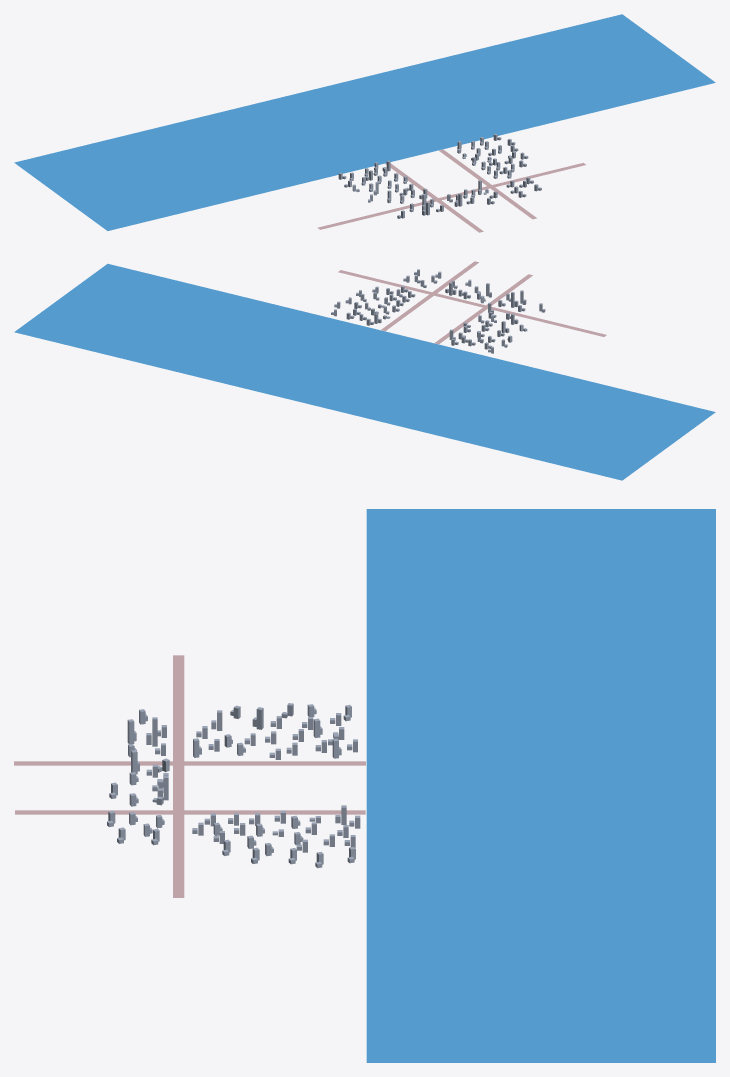
File: Huisman.Environment.gltf
3 renders of one model, top to bottom at view 1: azimuth 30°, elevation 25°; view 2: azimuth 150°, elevation 25°; view 3: azimuth 270°, elevation 25°, orthographic. The views are drawn at different scales.
Visible parts, largest first — view 1: Plane, Road; view 2: Plane, Road; view 3: Plane, Road.
Part boxes in pixels (<box>): Plane: <box>14,14,715,230</box>; Road: <box>317,149,585,232</box>; Plane: <box>14,263,715,480</box>; Road: <box>338,261,606,344</box>; Plane: <box>366,509,715,1062</box>; Road: <box>14,655,365,897</box>.
Size of the model in its own units: 863 by 19.87 by 462.
